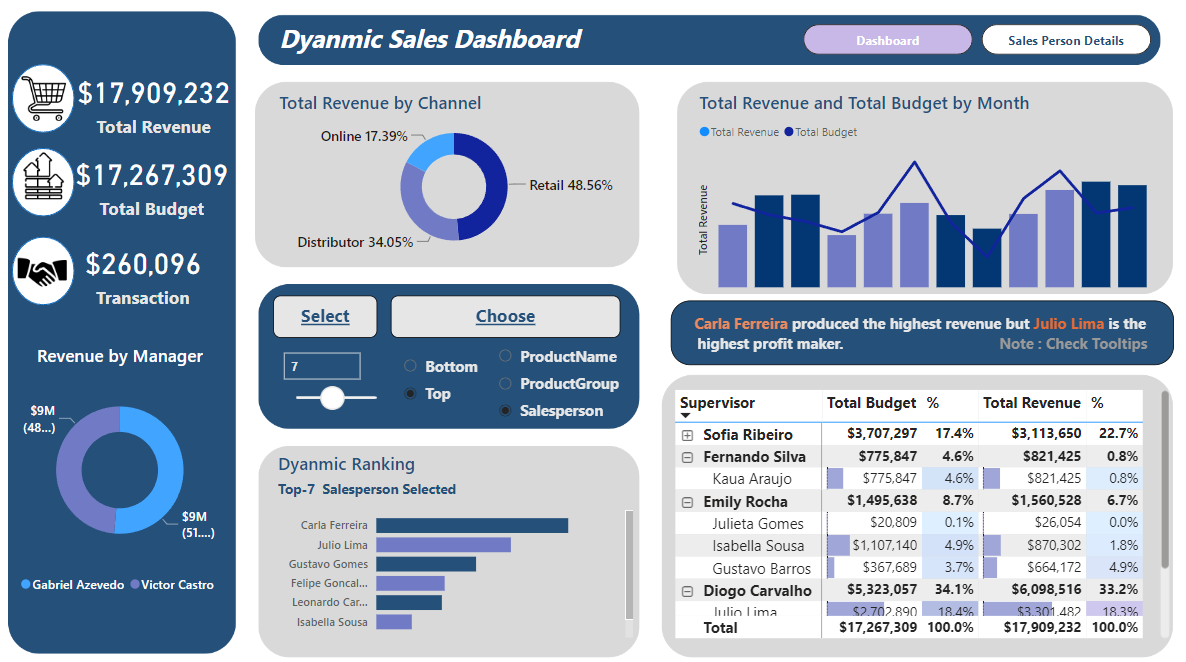

What the dashboard file says about the page in this screenshot:
{"tool":"powerbi","page":{"name":"Dashboard","canvas":[1280,720],"ordinal":0},"visuals":[{"type":"card","fields":{"Values":["Measure table.Total Revenue"]},"box":[72.7,71.3,191.9,80.9],"z":0},{"type":"card","fields":{"Values":["Measure table.Total Budget"]},"box":[72.7,152.2,187.8,96],"z":1000},{"type":"card","fields":{"Values":["Measure table.Transaction"]},"box":[72.7,253.6,168.6,83.6],"z":2000},{"type":"donutChart","title":"Revenue by Manager","fields":{"Y":["Measure table.Total Revenue"],"Category":["Dimension_table.Manager"]},"box":[20.5,371.5,224.3,278.6],"z":4000},{"type":"donutChart","fields":{"Y":["Measure table.Total Revenue"],"Category":["FactTable.Channel"]},"box":[298.9,100.1,386.6,182.3],"z":5000},{"type":"lineClusteredColumnComboChart","fields":{"Y":["Measure table.Total Revenue"],"Category":["1 Calendar.Year Hierarchy.Year","1 Calendar.Year Hierarchy.Month","1 Calendar.Year Hierarchy.Date","1 Calendar.Year Hierarchy.Qtr"],"Y2":["Measure table.Total Budget"]},"box":[751.3,100.1,492.2,218],"z":6000},{"type":"clusteredBarChart","title":"Dyanmic Ranking ","fields":{"Category":["Dim_Salesperson.Salesperson"],"Y":["Measure table.Ranking"]},"box":[296.7,488.4,392,205],"z":7000},{"type":"shape","box":[15.7,71.2,67.5,73.6],"z":8000},{"type":"shape","box":[15.7,161.6,67.5,73.6],"z":9000},{"type":"shape","box":[15.7,256.9,67.5,73.6],"z":10000},{"type":"image","box":[20.5,161.6,60.3,60.3],"z":11000},{"type":"image","box":[18.1,258.1,62.7,73.6],"z":12000},{"type":"image","box":[17.8,79.5,65.8,57.6],"z":13000},{"type":"slicer","fields":{"Values":["Choose Rank.Choose Rank"]},"box":[295.5,371.5,133.9,90.5],"z":14000},{"type":"slicer","fields":{"Values":["ChooseRankType.select"]},"box":[423.3,376.3,102.5,112.2],"z":15000},{"type":"slicer","fields":{"Values":["SelectToRank.SelectToRank"]},"box":[525.8,365.4,173.7,133.9],"z":16000},{"type":"textbox","box":[296.7,319.6,112.2,45.8],"z":17000},{"type":"textbox","box":[423.3,319.6,247.2,45.8],"z":18000},{"type":"pivotTable","fields":{"Rows":["Dim_Salesperson.Supervisor","Dim_Salesperson.Salesperson"],"Values":["Measure table.Total Budget","FactTable.PtrRevenue","Measure table.Total Revenue","FactTable.%PtrQty"]},"box":[725.3,416.8,541.6,277],"z":19000},{"type":"textbox","box":[724.8,325.6,541.5,69.9],"z":20000},{"type":"pageNavigator","box":[867.9,20.6,375.7,41.1],"z":21000},{"type":"textbox","box":[298.9,20.6,415.4,45.2],"z":22000}]}

Visuals, with their boxes in screenshot pixels (x1, y1, x2, y2), scaled from the page's 1280x720 canvas onto the 1186x662 screenshot:
card - Measure table.Total Revenue: detection(67, 66, 245, 140)
card - Measure table.Total Budget: detection(67, 140, 241, 228)
card - Measure table.Transaction: detection(67, 233, 224, 310)
"Revenue by Manager" donutChart: detection(19, 342, 227, 598)
donutChart - Measure table.Total Revenue x FactTable.Channel: detection(277, 92, 635, 260)
lineClusteredColumnComboChart - Measure table.Total Revenue x 1 Calendar.Year Hierarchy.Year: detection(696, 92, 1152, 292)
"Dyanmic Ranking " clusteredBarChart: detection(275, 449, 638, 638)
shape: detection(15, 65, 77, 133)
shape: detection(15, 149, 77, 216)
shape: detection(15, 236, 77, 304)
image: detection(19, 149, 75, 204)
image: detection(17, 237, 75, 305)
image: detection(16, 73, 77, 126)
slicer - Choose Rank.Choose Rank: detection(274, 342, 398, 425)
slicer - ChooseRankType.select: detection(392, 346, 487, 449)
slicer - SelectToRank.SelectToRank: detection(487, 336, 648, 459)
textbox: detection(275, 294, 379, 336)
textbox: detection(392, 294, 621, 336)
pivotTable - Dim_Salesperson.Supervisor x Dim_Salesperson.Salesperson: detection(672, 383, 1174, 638)
textbox: detection(672, 299, 1173, 364)
pageNavigator: detection(804, 19, 1152, 57)
textbox: detection(277, 19, 662, 60)
